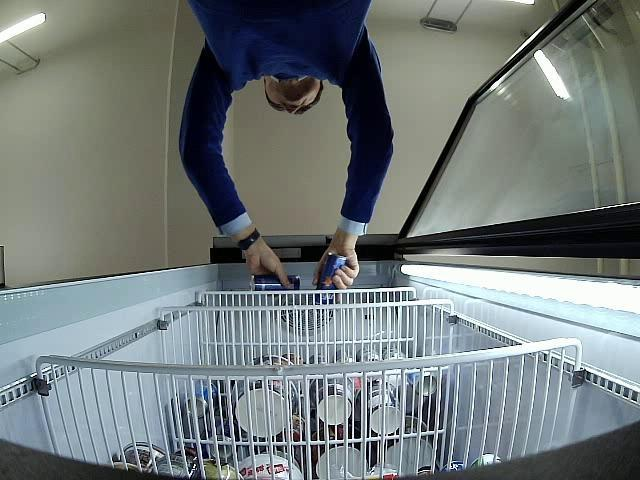16_hot6: (316, 252, 348, 304), (250, 275, 300, 291)
